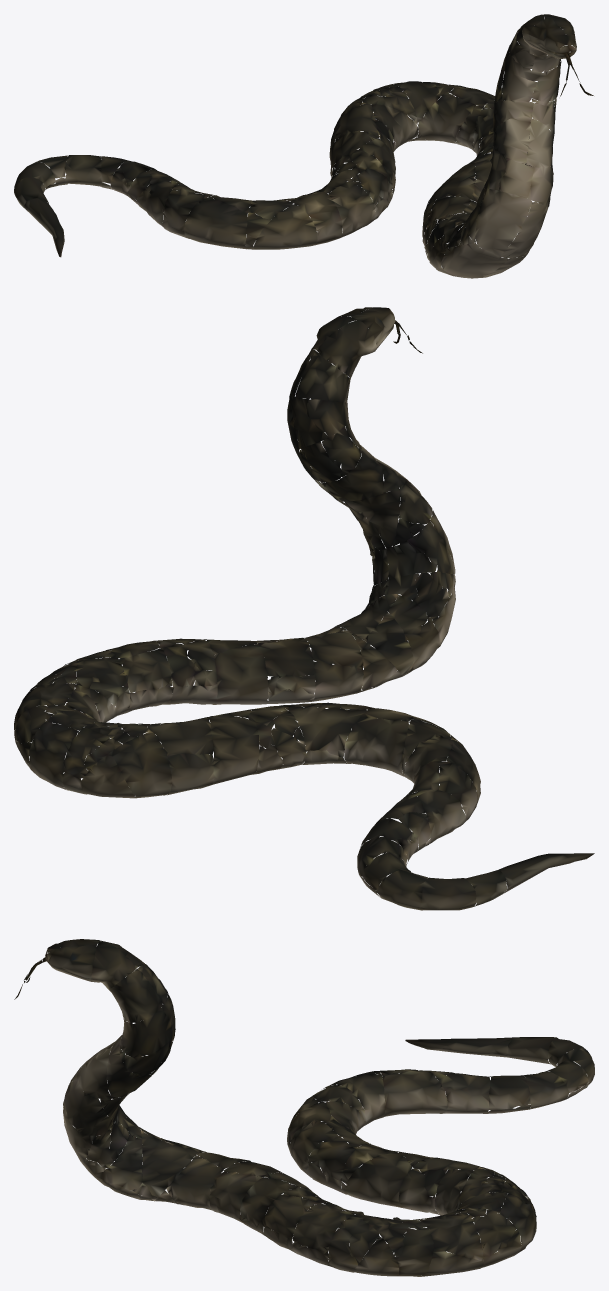
The model's file is serpent.glb.
3 renders of one model, top to bottom at view 1: azimuth 30°, elevation 25°; view 2: azimuth 150°, elevation 25°; view 3: azimuth 270°, elevation 25°, orthographic. The views are drawn at different scales.
Parts seen in each view (by area): view 1: 씬1.구렁이; view 2: 씬1.구렁이; view 3: 씬1.구렁이.
Boxes of the visible parts, x1=… form: 씬1.구렁이: x1=14, y1=14, x2=593, y2=278; 씬1.구렁이: x1=14, y1=307, x2=594, y2=910; 씬1.구렁이: x1=14, y1=939, x2=594, y2=1276.
Size of the model in its own units: 2.59 by 1.39 by 2.6.
